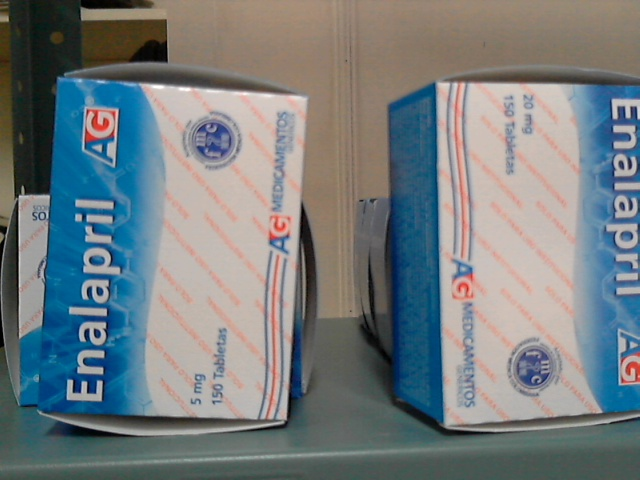AG: (40, 80, 304, 418)
